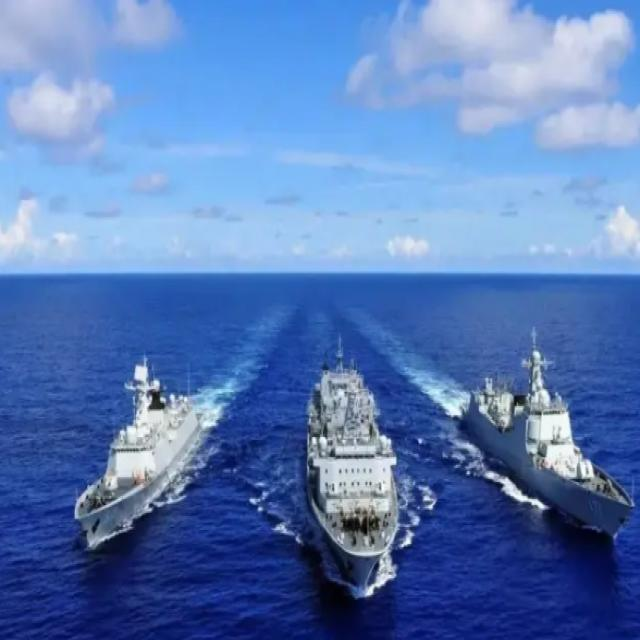navalvessels: (443, 328, 636, 534), (74, 332, 210, 562), (291, 337, 405, 590)
